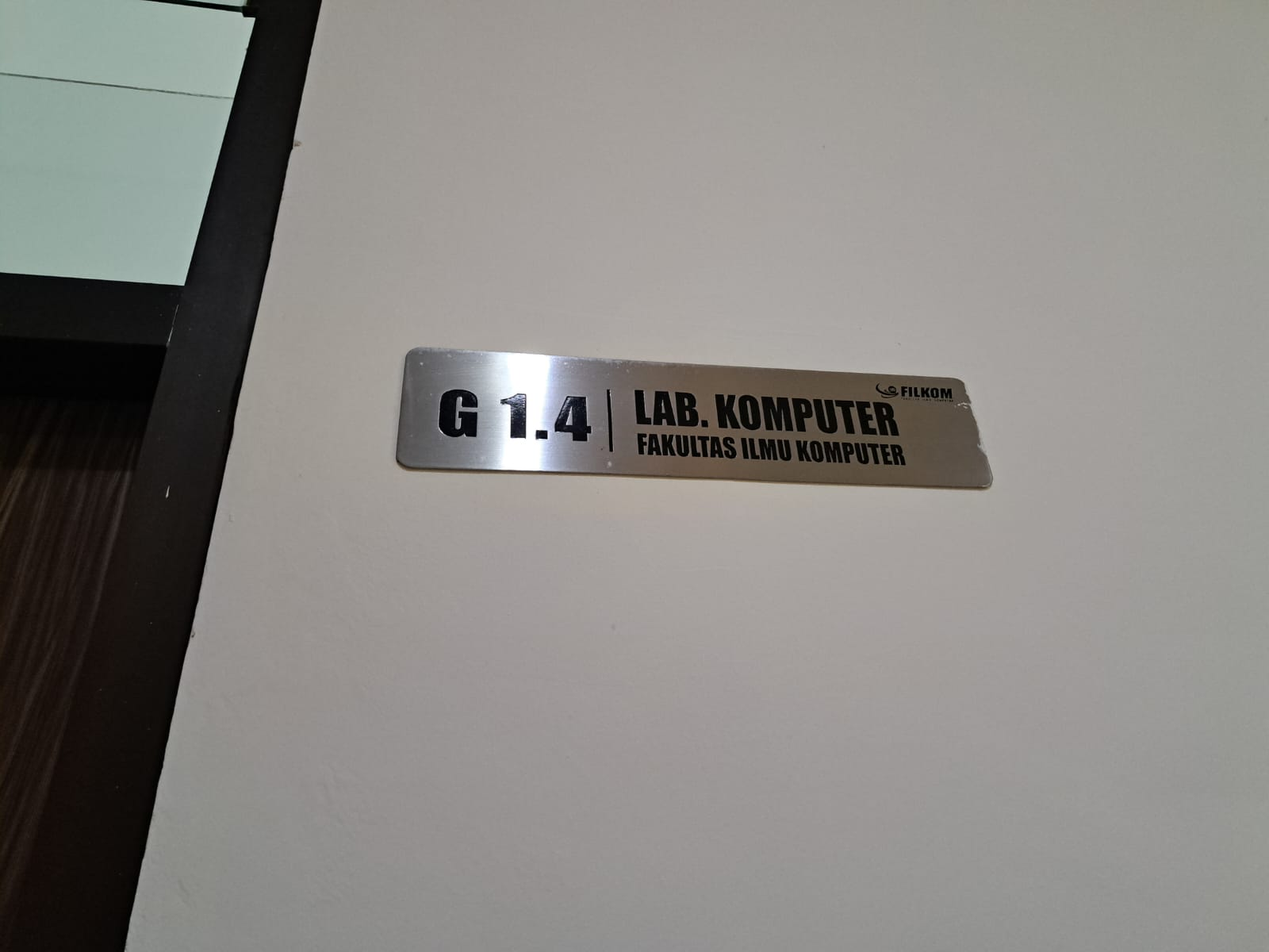lab komputer: (391, 330, 1000, 508)
